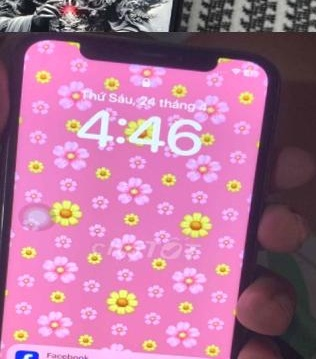scratch: (0, 210, 14, 235), (21, 32, 54, 42)
